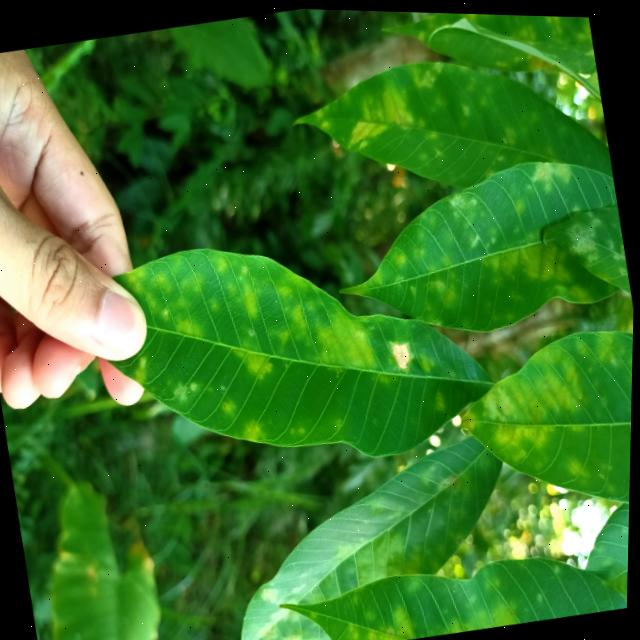Leaf-Blight: (393, 339, 413, 367)
